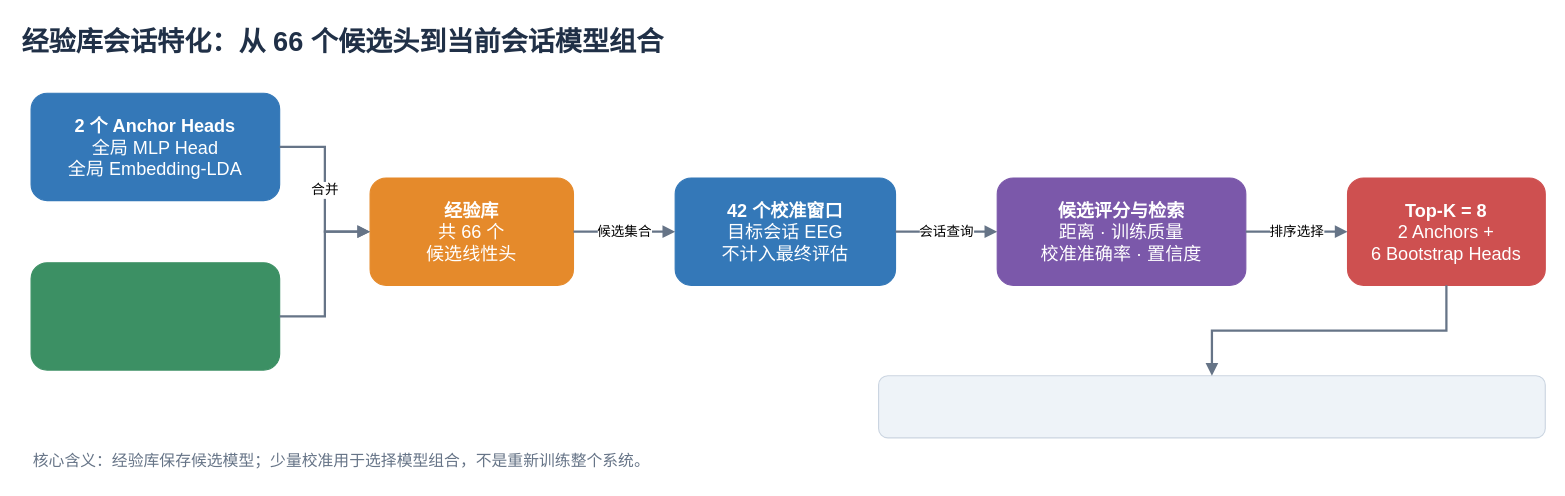
Some shapes in this 1565 by 496 pixel diagram are drawn without their labels. The centre of each missing label's shape, as x and y in pixels:
"64 个 Bootstrap Heads 训练集重复采样 · 多样化 LDA" belongs at (x=155, y=316).
"8 个候选概率按检索权重融合 → 当前会话命令 / 拒识" belongs at (x=1211, y=406).
